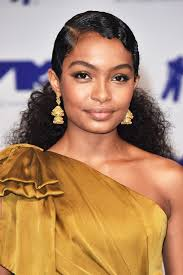person: (46, 10, 140, 137)
